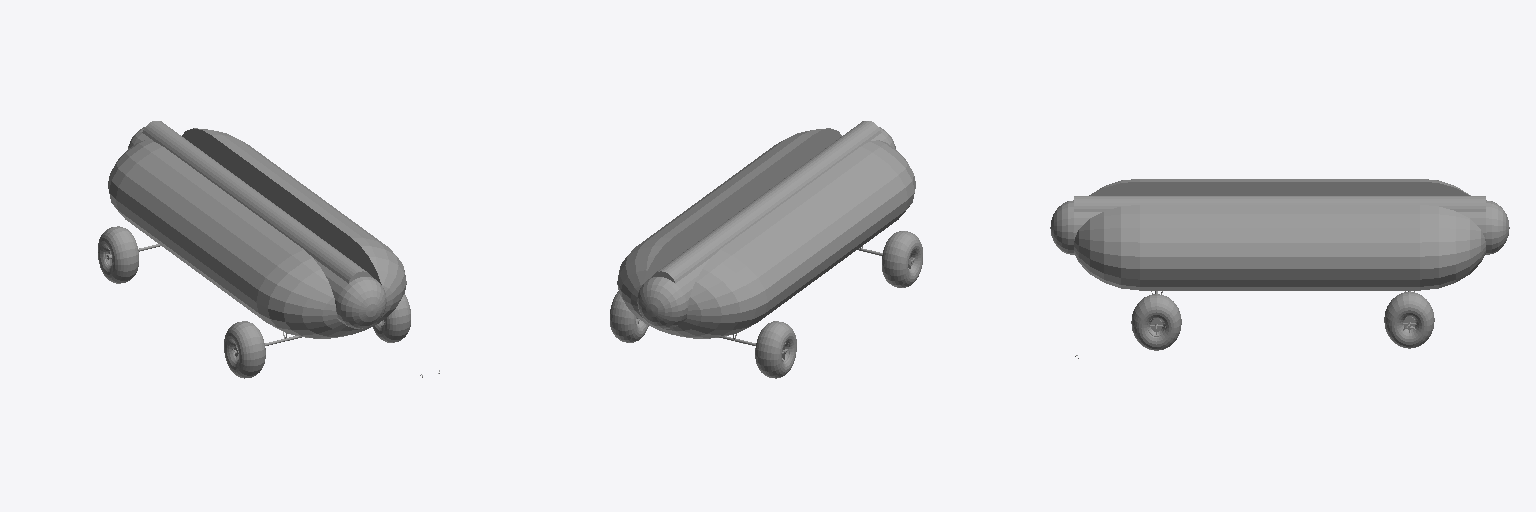
File: WienerCarModel.obj
3 renders of one model, left to right at view 1: azimuth 30°, elevation 25°; view 2: azimuth 150°, elevation 25°; view 3: azimuth 270°, elevation 25°, orthographic.
Parts seen in each view (by area): view 1: group_0.006_ID51, group_0.009_ID73, group_0.008_ID67, group_0.013_ID101, group_0.003_ID26, group_0.031_ID209, group_0.056_ID372; view 2: group_0.006_ID51, group_0.009_ID73, group_0.008_ID67, group_0.013_ID101, group_0.031_ID209, group_0.003_ID26, group_0.043_ID281; view 3: group_0.006_ID51, group_0.007_ID59, group_0.009_ID73, group_0.013_ID101, group_0.043_ID281, group_0.056_ID372.
Part boxes in pixels (left/top/right/bottom): group_0.006_ID51: left=108, top=128, right=406, bottom=338; group_0.009_ID73: left=142, top=121, right=371, bottom=283; group_0.008_ID67: left=182, top=128, right=381, bottom=284; group_0.013_ID101: left=128, top=127, right=386, bottom=328; group_0.003_ID26: left=224, top=321, right=265, bottom=378; group_0.031_ID209: left=98, top=226, right=138, bottom=283; group_0.056_ID372: left=373, top=294, right=410, bottom=342; group_0.006_ID51: left=617, top=128, right=915, bottom=338; group_0.009_ID73: left=652, top=121, right=881, bottom=283; group_0.008_ID67: left=642, top=128, right=841, bottom=284; group_0.013_ID101: left=637, top=127, right=895, bottom=328; group_0.031_ID209: left=755, top=321, right=796, bottom=378; group_0.003_ID26: left=882, top=231, right=922, bottom=287; group_0.043_ID281: left=610, top=291, right=648, bottom=342; group_0.006_ID51: left=1074, top=179, right=1485, bottom=290; group_0.007_ID59: left=1090, top=182, right=1469, bottom=195; group_0.009_ID73: left=1074, top=196, right=1485, bottom=211; group_0.013_ID101: left=1050, top=200, right=1509, bottom=254; group_0.043_ID281: left=1384, top=292, right=1434, bottom=348; group_0.056_ID372: left=1131, top=294, right=1181, bottom=350.
Size of the model in its own units: 2.11 by 1.51 by 4.93.